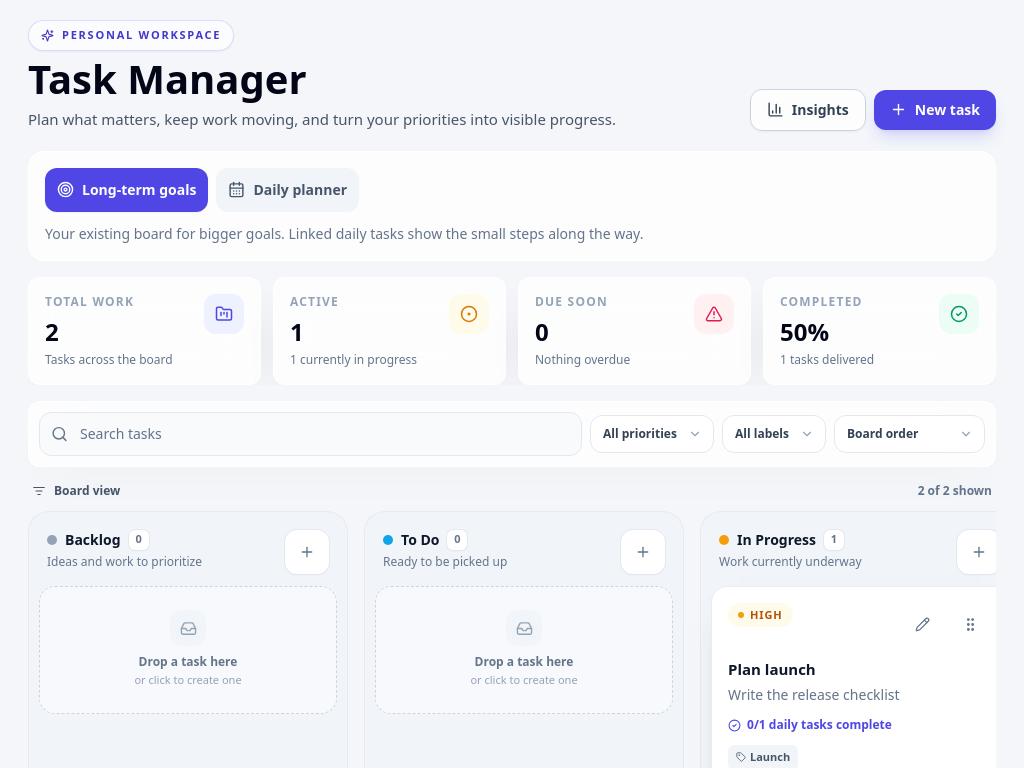
editing a linked goal preserves the daily board's selected mobile column
The image size is (1024, 768).
Expected: the heading "Plan launch" is shown, [728, 658, 816, 678]
Click the button "Daily planner": (288, 190) [216, 168, 359, 212]
(page scrolled)
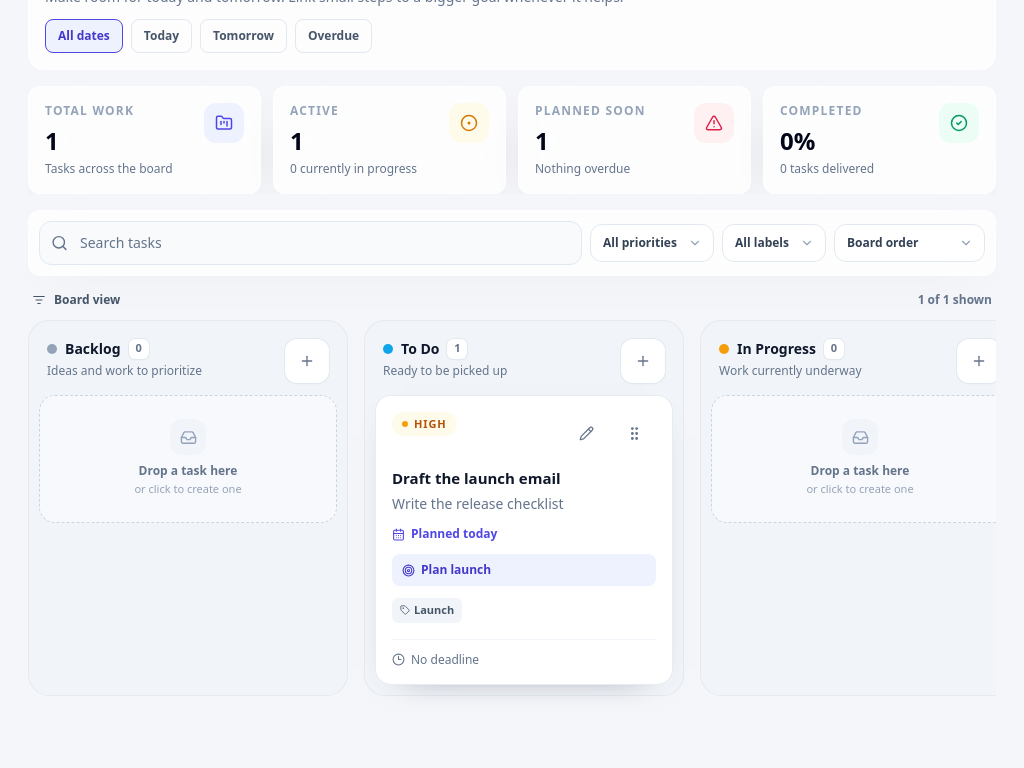
Click the button with aria-label "Open linked goal: Plan launch": (456, 570) [392, 554, 656, 586]
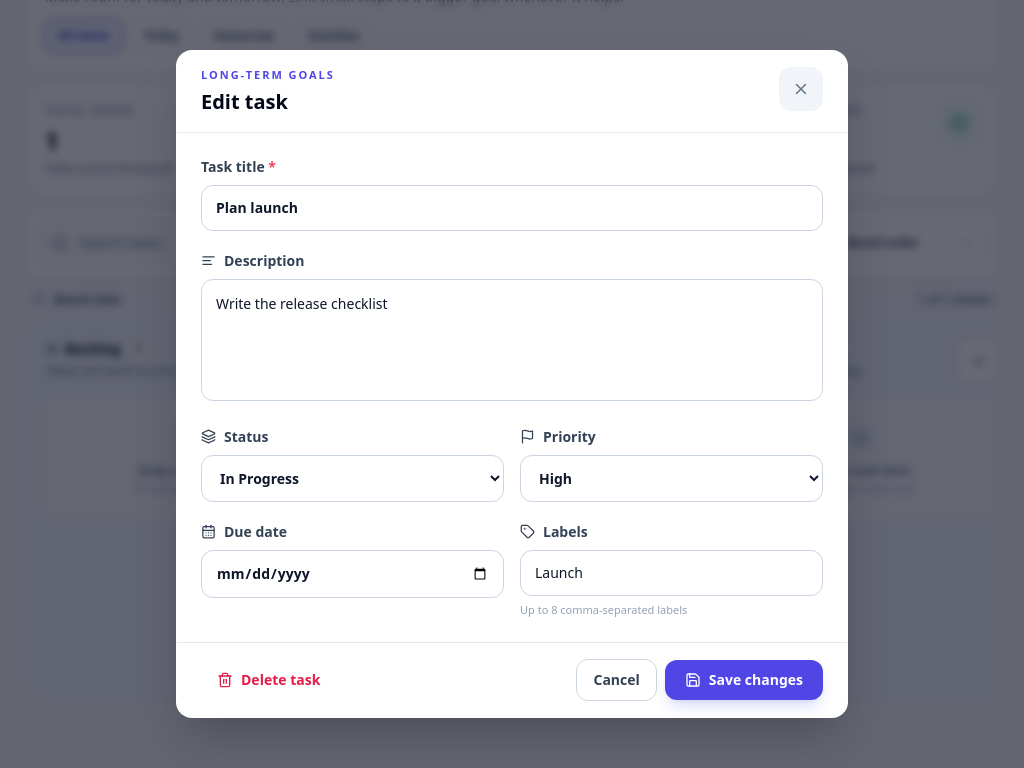
Click the button "Save changes": (744, 680) [665, 660, 823, 700]
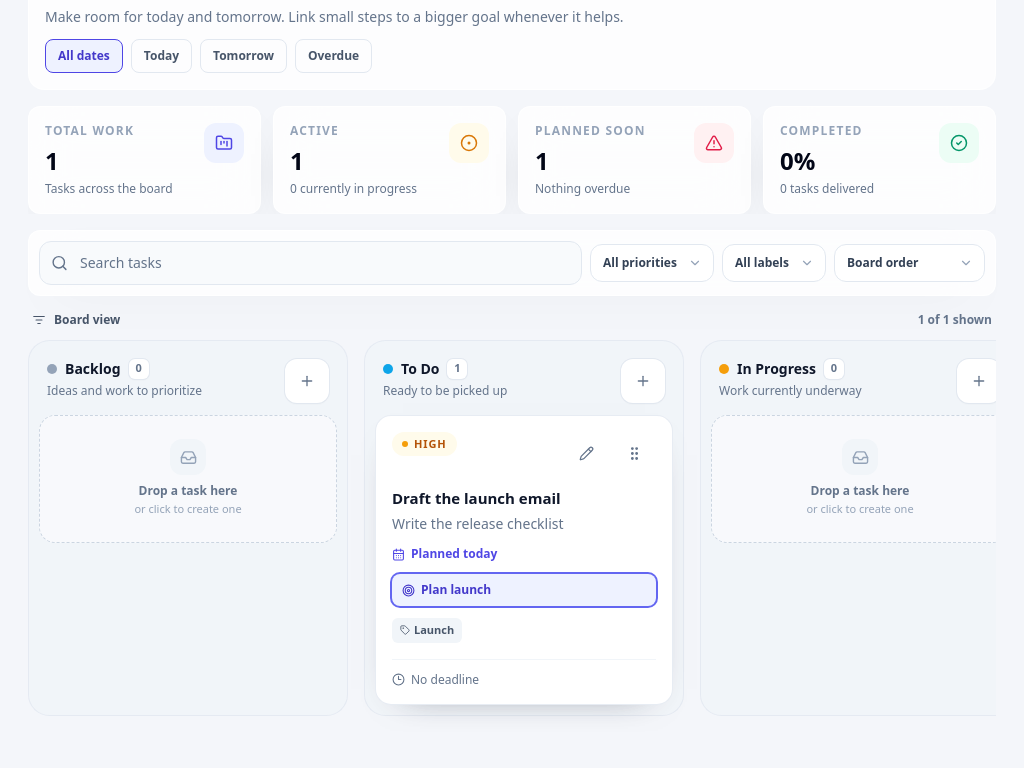
Expected: the dialog is gone
